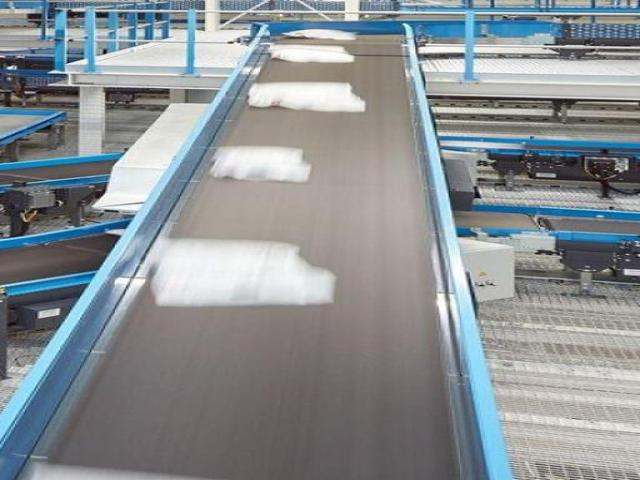conveyor: (0, 21, 520, 479)
